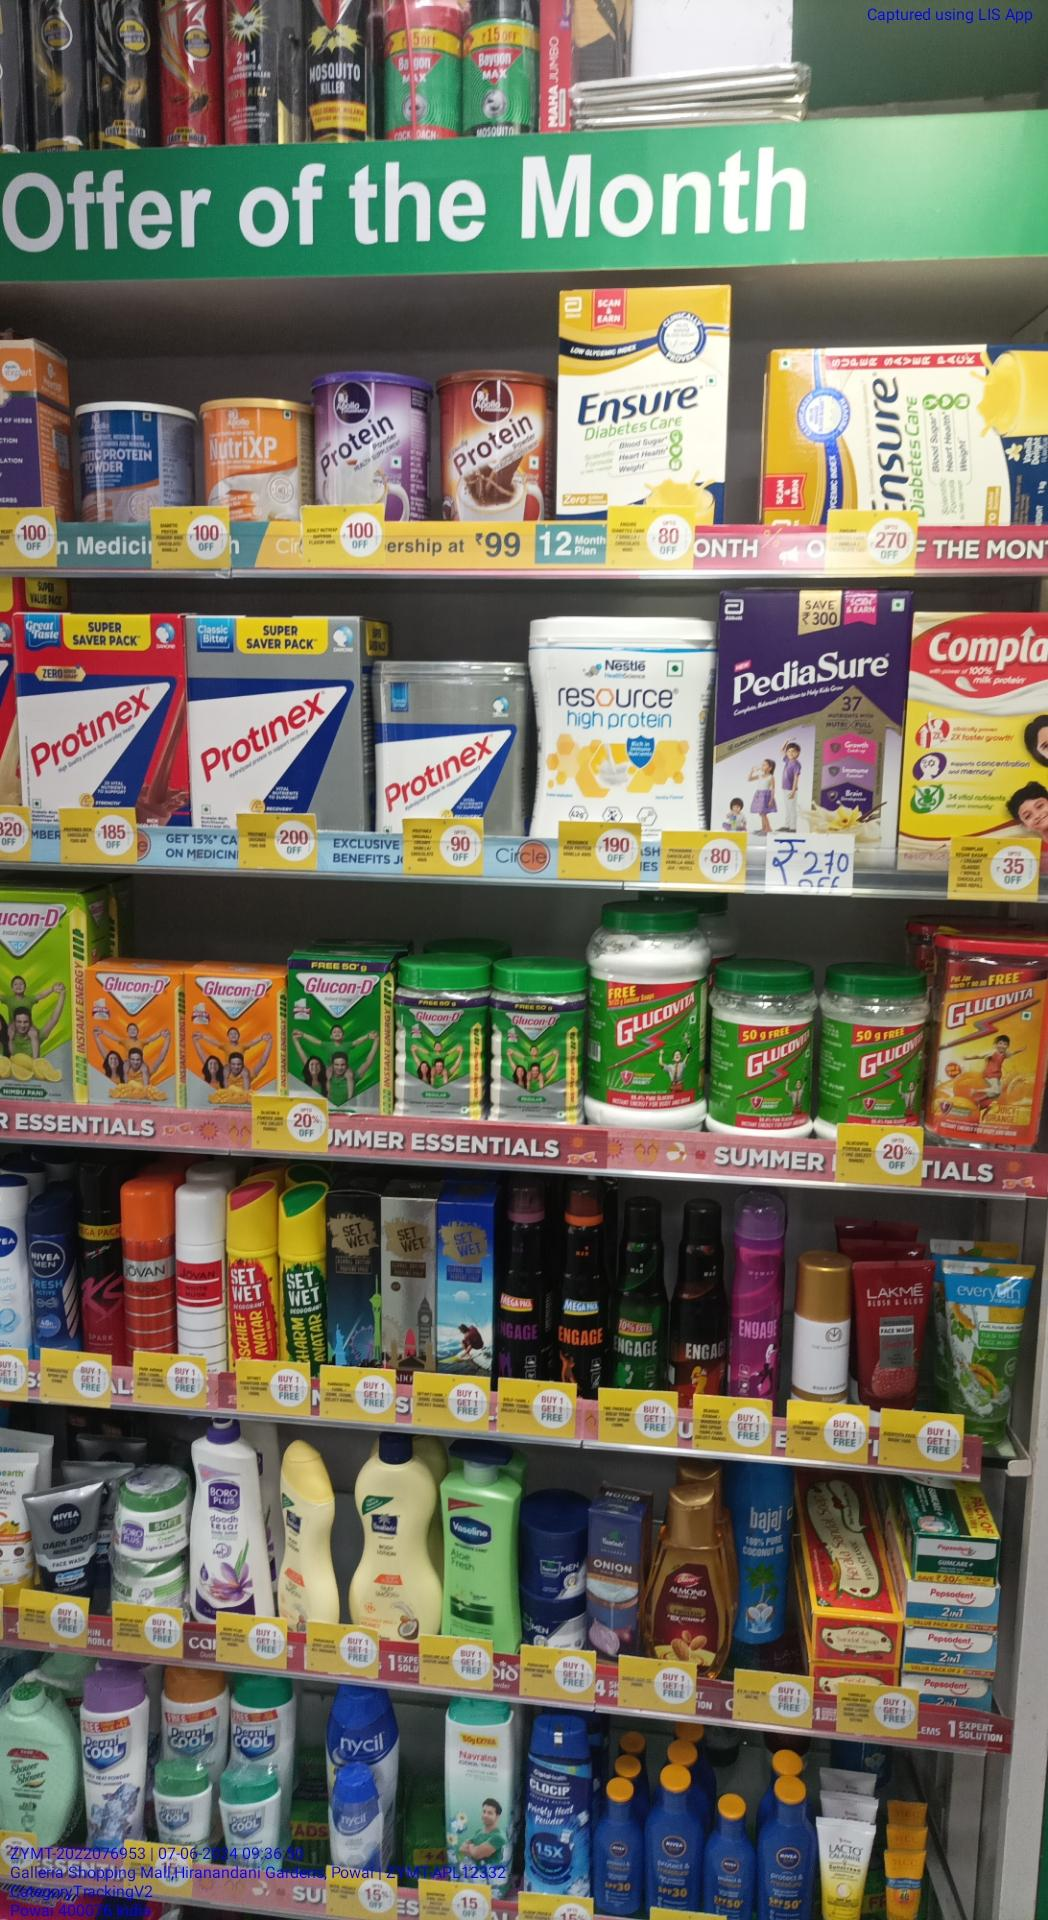COMPLAN_KESAR_BADAM_500_GMS_PACK: (909, 608, 1048, 874)
PEDIASURE_VANILLA_500_G_PACK: (720, 588, 903, 857)
PROTINEX_ORIGINAL_400_G_JAR: (374, 659, 528, 836)
